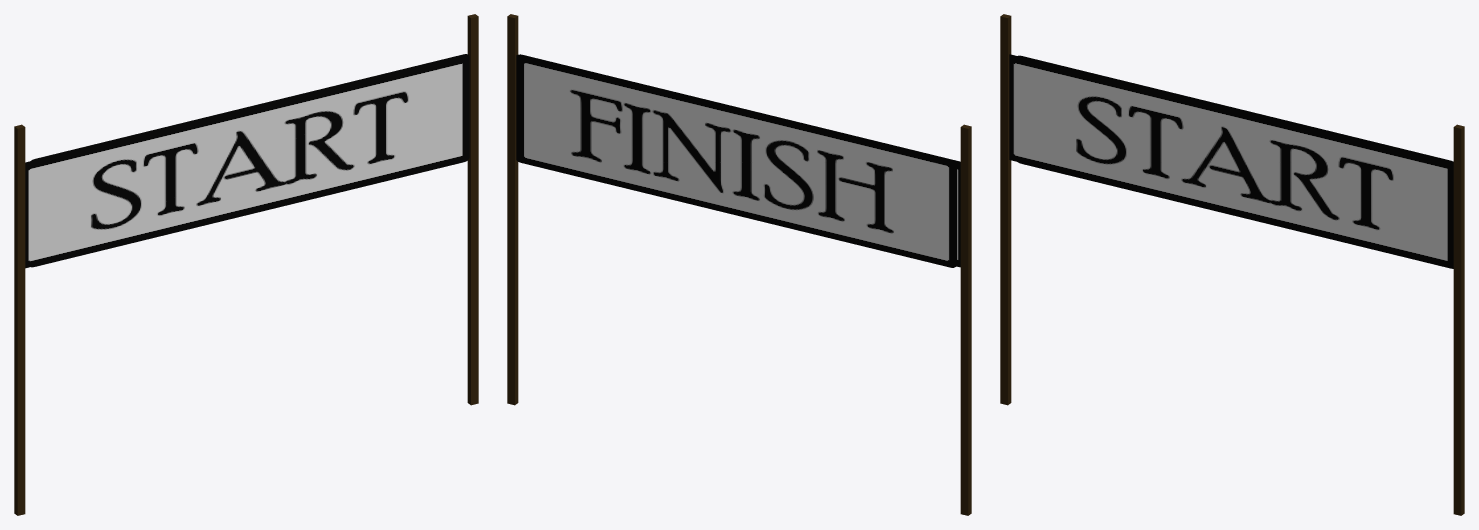
The model's file is Start-FinishBanner.fbx.
The picture shows the model from 3 angles, left to right: view 1: azimuth 30°, elevation 25°; view 2: azimuth 150°, elevation 25°; view 3: azimuth 330°, elevation 25°; orthographic projection.
Parts seen in each view (by area): view 1: Start-FinishBanner; view 2: Start-FinishBanner; view 3: Start-FinishBanner.
Part boxes in pixels (left/top/right/bottom): Start-FinishBanner: left=14, top=14, right=478, bottom=515; Start-FinishBanner: left=507, top=14, right=971, bottom=515; Start-FinishBanner: left=1000, top=14, right=1464, bottom=515.
Size of the model in its own units: 6.29 by 5.05 by 0.0787.
